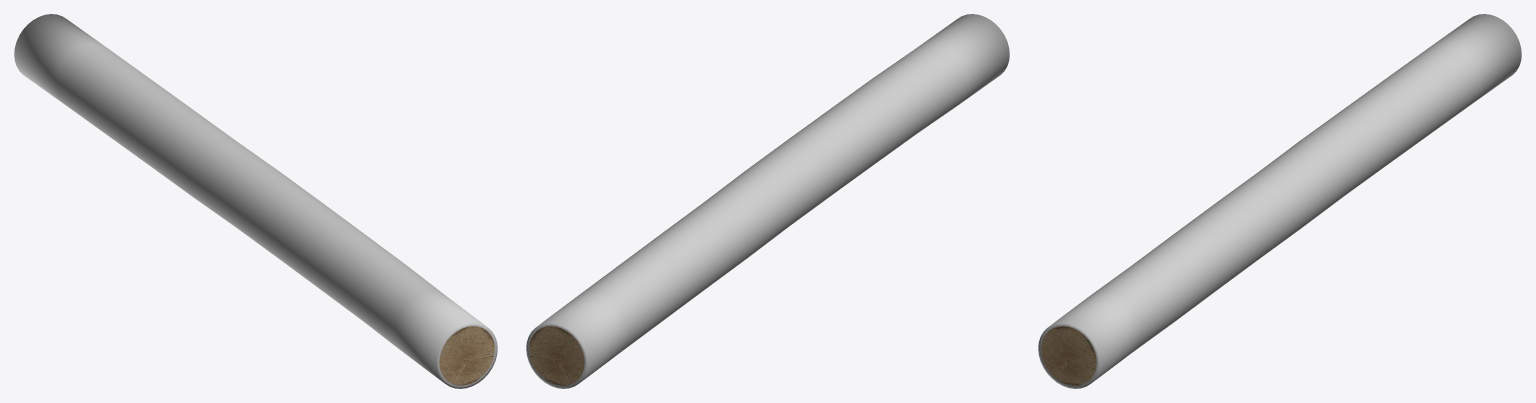
The model's file is wood1.fbx.
3 views of the same model, side by side, from view 1: azimuth 30°, elevation 25°; view 2: azimuth 150°, elevation 25°; view 3: azimuth 330°, elevation 25° (orthographic).
Parts seen in each view (by area): view 1: Cylinder; view 2: Cylinder; view 3: Cylinder.
Part boxes in pixels (<box>): Cylinder: <box>14,14,497,388</box>; Cylinder: <box>526,14,1009,388</box>; Cylinder: <box>1038,14,1521,388</box>.
Size of the model in its own units: 43.12 by 44.01 by 505.
